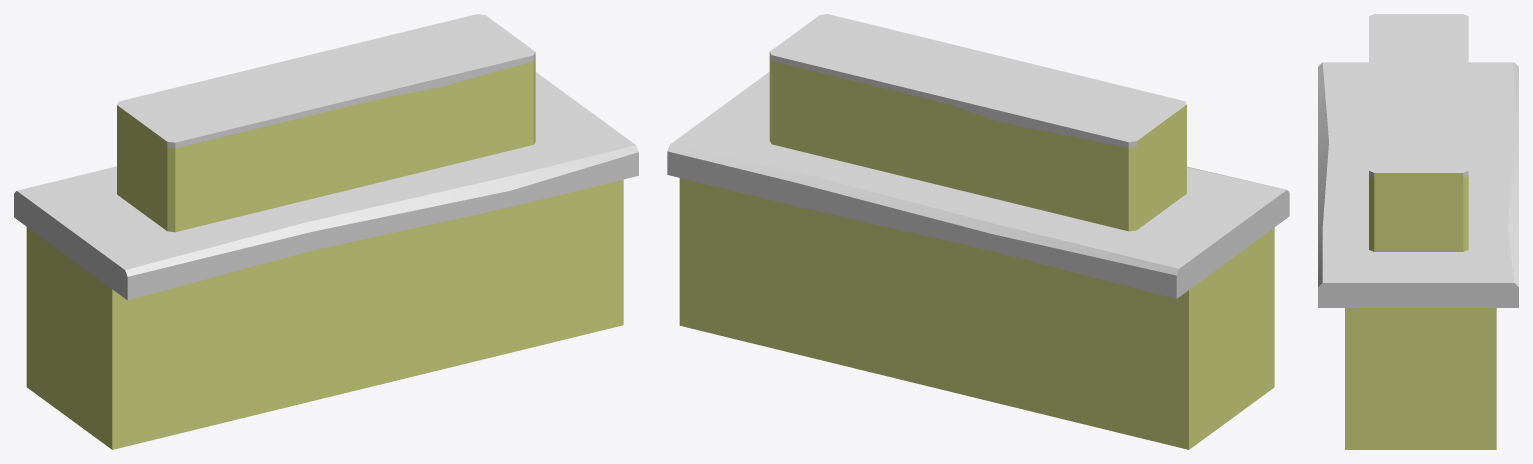
File: TellerDesk_01.fbx
3 views of the same model, side by side, from view 1: azimuth 30°, elevation 25°; view 2: azimuth 150°, elevation 25°; view 3: azimuth 270°, elevation 25° (orthographic). The views are drawn at different scales.
Parts seen in each view (by area): view 1: SM_Prop_TellerDesk_01; view 2: SM_Prop_TellerDesk_01; view 3: SM_Prop_TellerDesk_01.
Part boxes in pixels (x1=…): SM_Prop_TellerDesk_01: x1=14, y1=14, x2=638, y2=449; SM_Prop_TellerDesk_01: x1=667, y1=14, x2=1289, y2=449; SM_Prop_TellerDesk_01: x1=1318, y1=14, x2=1518, y2=449.
Size of the model in its own units: 2.5 by 1.3 by 0.9618.
